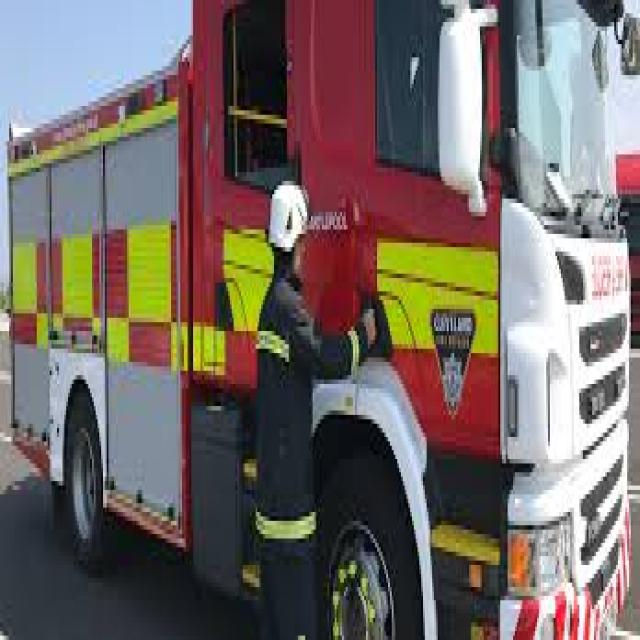Fire_brigade: (4, 4, 632, 640)
